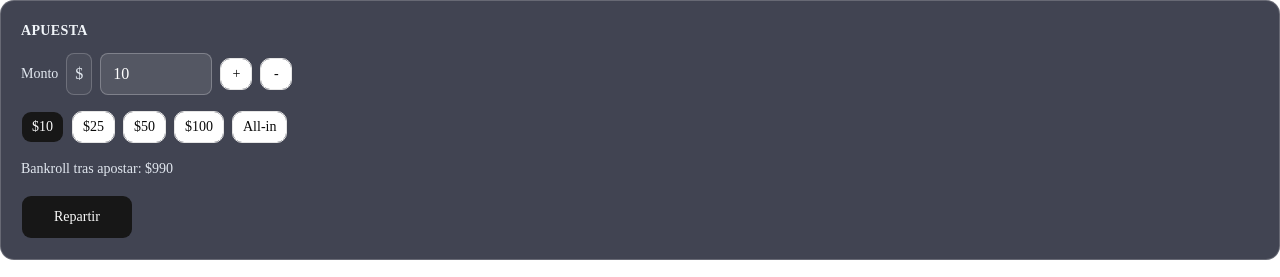
Test: BetSelector › applies numeric preset and syncs store
Click the button "$50". click: [144, 127]
box: [123, 111, 166, 143]
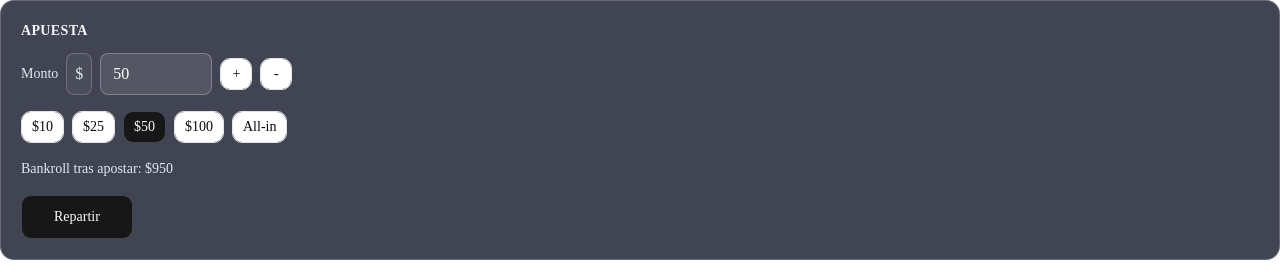
Check: the field holds "50", box [100, 53, 212, 95]
